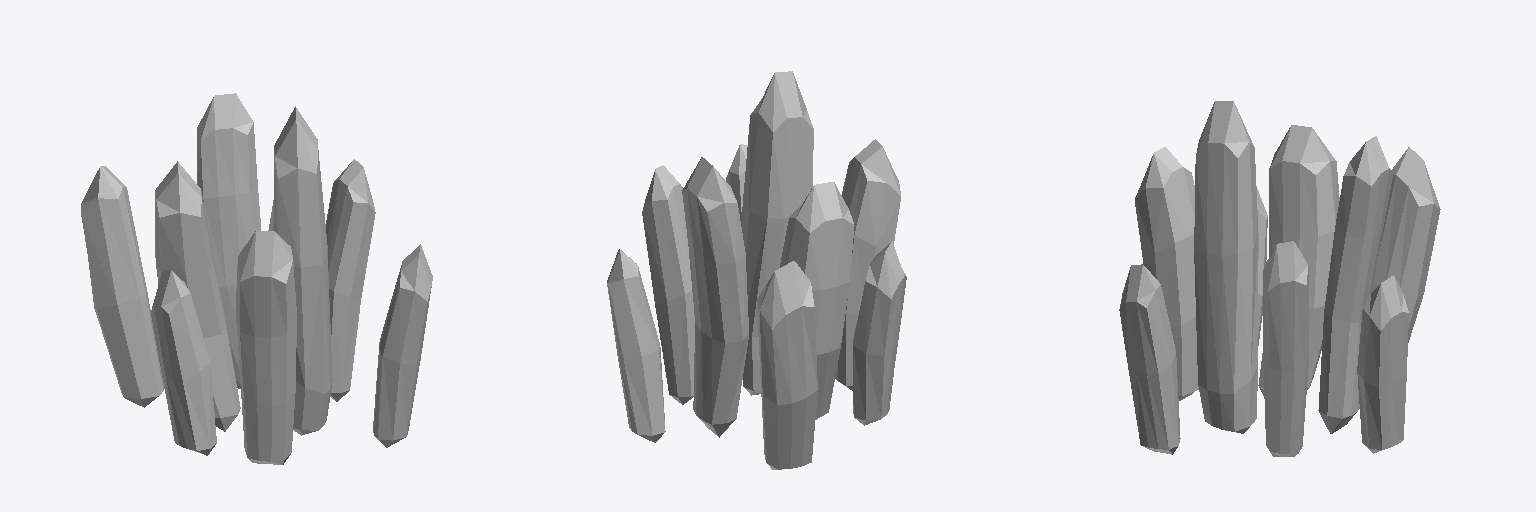
The model's file is Seaweed_A_01_LOD1.obj.
3 renders of one model, left to right at view 1: azimuth 30°, elevation 25°; view 2: azimuth 150°, elevation 25°; view 3: azimuth 270°, elevation 25°, orthographic.
Parts seen in each view (by area): view 1: Seaweed_A_01_LOD1_Cylinder.371; view 2: Seaweed_A_01_LOD1_Cylinder.371; view 3: Seaweed_A_01_LOD1_Cylinder.371.
Boxes of the visible parts, box(x1,y1,x2,y2) form: Seaweed_A_01_LOD1_Cylinder.371: box(81, 93, 432, 464); Seaweed_A_01_LOD1_Cylinder.371: box(607, 71, 906, 469); Seaweed_A_01_LOD1_Cylinder.371: box(1119, 101, 1440, 456).
Size of the model in its own units: 3.39 by 4.54 by 4.06.